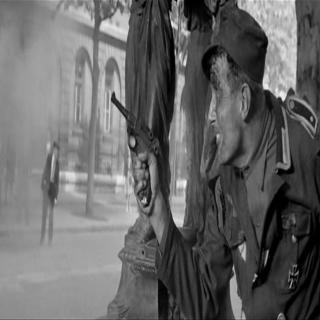gun: (109, 89, 161, 204)
